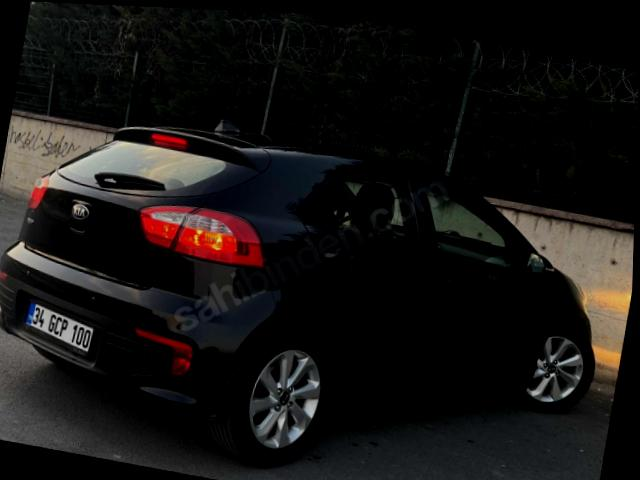plaka: (25, 301, 93, 356)
